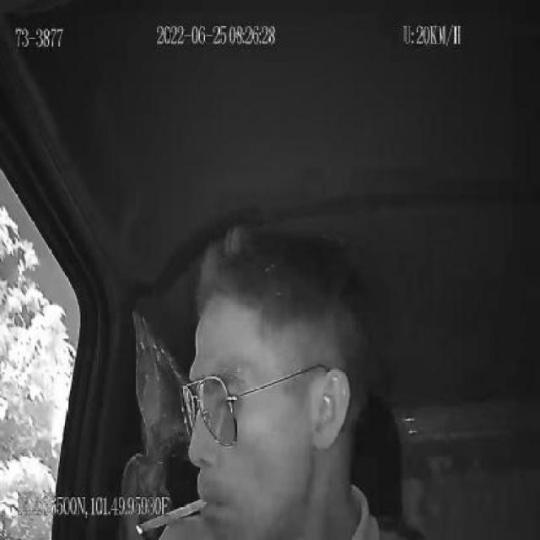smoking: (138, 502, 207, 532)
